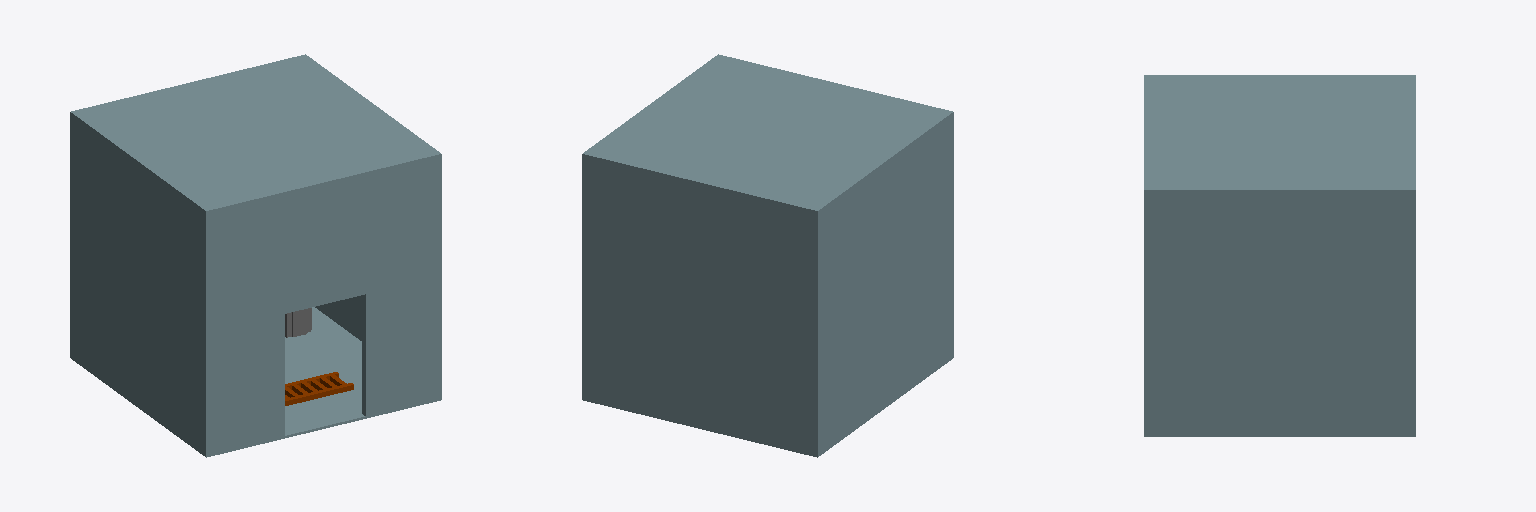
3 renders of one model, left to right at view 1: azimuth 30°, elevation 25°; view 2: azimuth 150°, elevation 25°; view 3: azimuth 270°, elevation 25°, orthographic.
Visible parts, largest first — view 1: object 1; view 2: object 1; view 3: object 1.
Boxes of the visible parts, <box> form: object 1: <box>70,54,441,457</box>; object 1: <box>582,54,953,457</box>; object 1: <box>1144,75,1415,436</box>.
Bounding box in the file's own units: 9.9 × 9.9 × 9.9.
Materials: 1 (1 with a texture image).